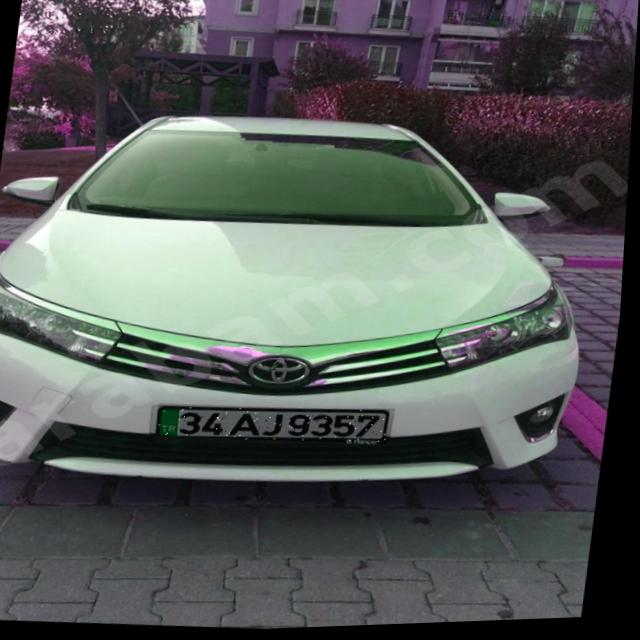license_plate: (159, 397, 396, 453)
